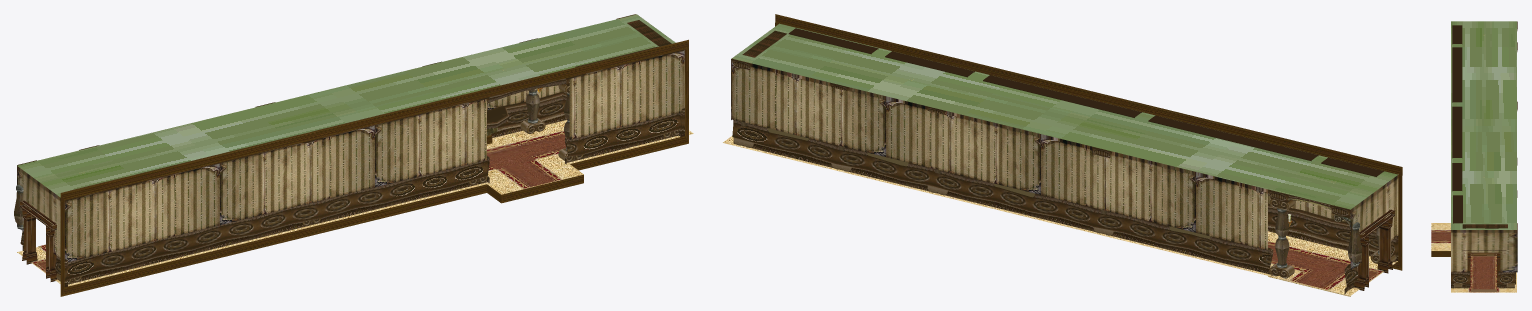
The model's file is room_43.glb.
3 views of the same model, side by side, from view 1: azimuth 30°, elevation 25°; view 2: azimuth 150°, elevation 25°; view 3: azimuth 270°, elevation 25° (orthographic). The views are drawn at different scales.
Visible parts, largest first — view 1: room_43; view 2: room_43; view 3: room_43.
Boxes of the visible parts, x1,y1,x2,y2 form: room_43: (14, 14, 693, 296); room_43: (723, 14, 1402, 296); room_43: (1431, 21, 1517, 292).
Size of the model in its own units: 3843 by 600 by 656.
23 materials, 23 textured.
